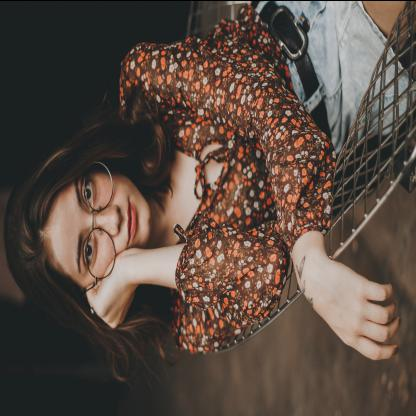Eye: (82, 230, 97, 271), (81, 175, 97, 208)
Mouth: (126, 196, 137, 246)
Nose: (94, 204, 122, 235)
